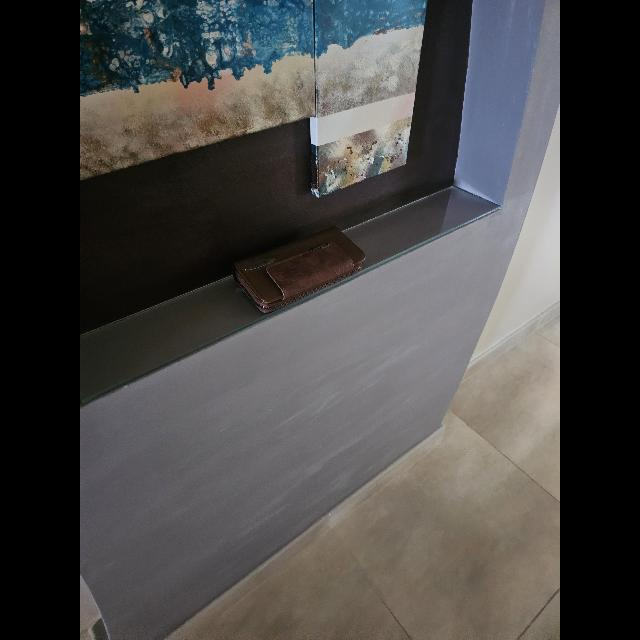Wallet: (232, 226, 366, 310)
